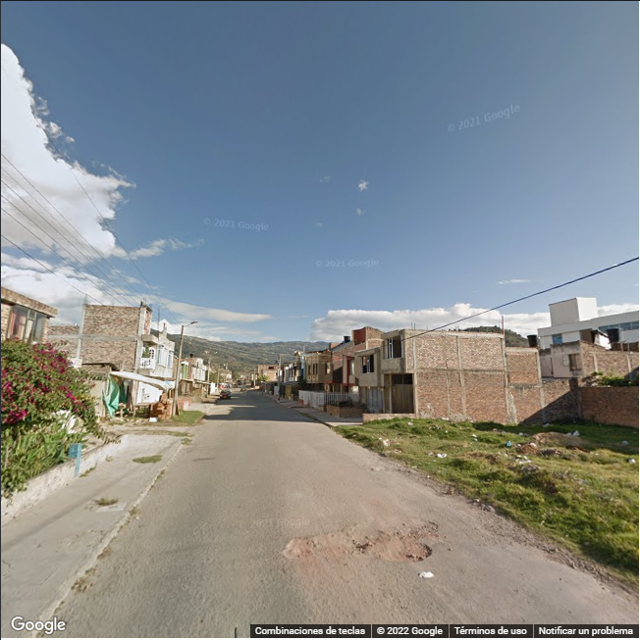D40: (374, 527, 433, 560)
